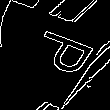P_SE: (14, 27, 96, 83)
